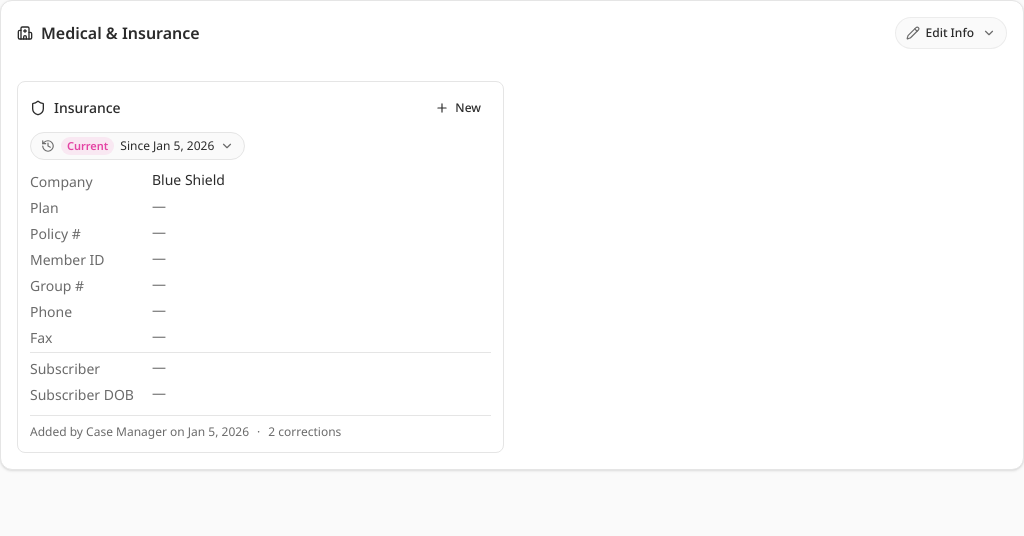
Test: MedicalRecordsCard › shows corrections and hides redacted values
This screenshot has width=1024, height=536.
Click the button "2 corrections".
click(305, 432)  # box [268,424,341,440]
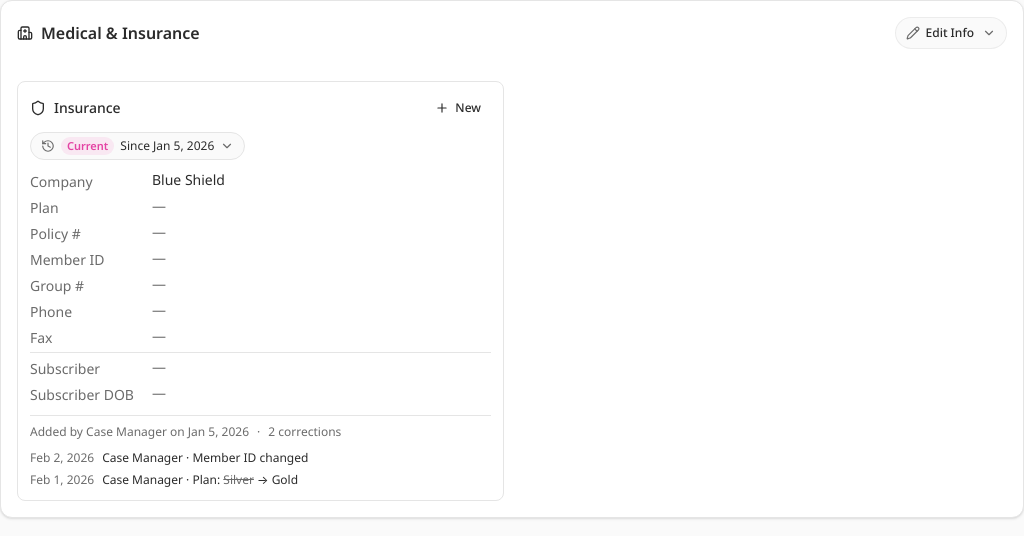
Now the list item "Feb 2, 2026 Case Manager · Member ID changed" is shown, box [30,449,308,466]
Now the list item "Feb 1, 2026 Case Manager · Plan: Silver → Gold" is shown, box [30,471,298,488]
